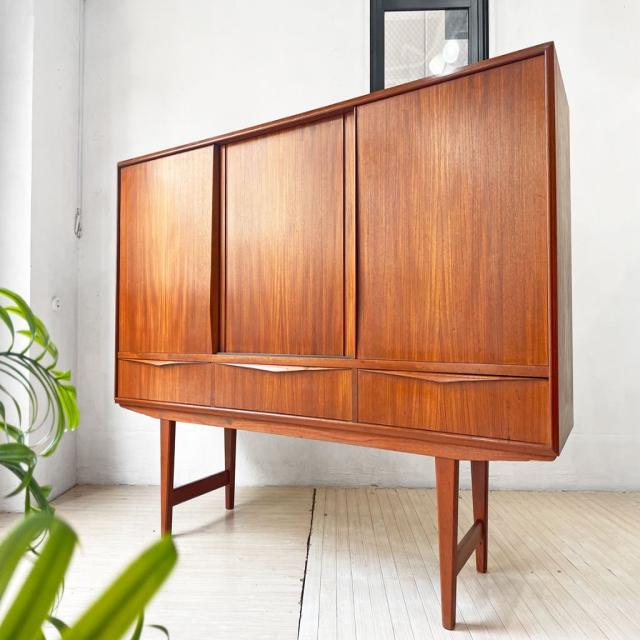vintage shelf: (110, 37, 587, 632)
